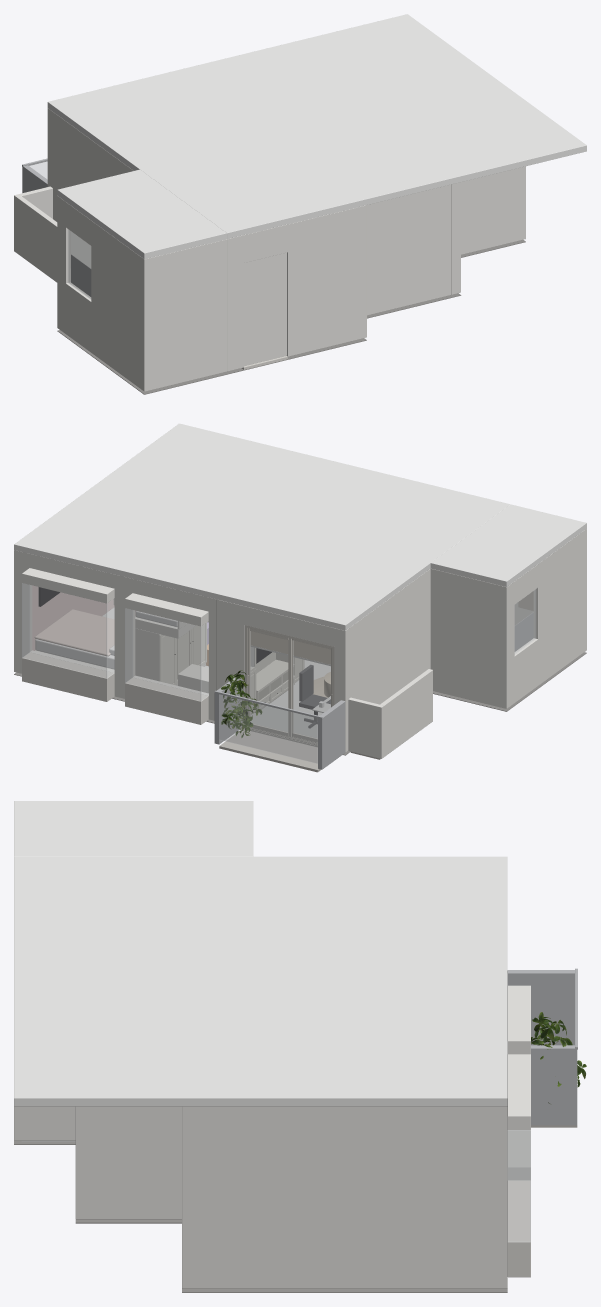
The picture shows the model from 3 angles, top to bottom: view 1: azimuth 30°, elevation 25°; view 2: azimuth 150°, elevation 25°; view 3: azimuth 270°, elevation 25°; orthographic projection. The views are drawn at different scales.
Parts seen in each view (by area): view 1: Ceiling, Wall S living, Wall S kitchen, Wall kitchen W, Wall bath south, Ceiling kitchen, Wall MBR south, Door main, Wall W living, Parapet utility, Window kitchen, Wall kitchen top (+6 smaller); view 2: Ceiling, Wall kitchen top, Wall kitchen W, Wall W living, Wall N bedrooms, Ceiling kitchen, Bay glass 1, Bay glass 0, Wall N living, Balcony glass, Balcony door E glass, Balcony door W glass (+29 smaller); view 3: Ceiling, Wall E, Ceiling kitchen, Wall bath-MBR, Balcony rail E, Balcony rail W, Bay glass side R 1, Bay sill 1, Wall living-bath, Bay head 1, Bay head 0, Bay sill 0 (+3 smaller).
Part boxes in pixels (x1,y1,x2,y2): Ceiling: (47,14,586,238); Wall S living: (231,206,363,370); Wall S kitchen: (141,239,226,391); Wall kitchen W: (57,196,144,391); Wall bath south: (367,184,451,315); Ceiling kitchen: (57,169,226,259); Wall MBR south: (461,166,525,254); Door main: (244,252,286,365); Wall W living: (48,110,231,371); Parapet utility: (16,196,57,282); Window kitchen: (68,229,90,299); Wall kitchen top: (57,196,91,330); Ceiling: (14,423,510,630); Wall kitchen top: (430,568,510,708); Wall kitchen W: (502,528,586,708); Wall W living: (341,569,430,751); Wall N bedrooms: (14,550,216,720); Ceiling kitchen: (430,504,586,586); Bay glass 1: (22,583,106,678); Bay glass 0: (125,608,201,701); Wall N living: (216,599,347,752); Balcony glass: (219,694,317,763); Balcony door E glass: (250,631,287,731); Balcony door W glass: (293,640,330,738); Ceiling: (14,856,507,1106); Wall E: (182,1106,507,1288); Ceiling kitchen: (14,801,253,856); Wall bath-MBR: (75,1106,181,1219); Balcony rail E: (531,1045,577,1125); Balcony rail W: (507,970,574,1045); Bay glass side R 1: (508,1130,530,1241); Bay sill 1: (507,1180,530,1277); Wall living-bath: (14,1106,75,1140); Bay head 1: (507,1054,530,1129); Bay head 0: (507,985,530,1054); Bay sill 0: (508,1130,530,1179).
Size of the model in its own units: 9.1 by 2.8 by 7.41.
68 materials, 7 textured.
